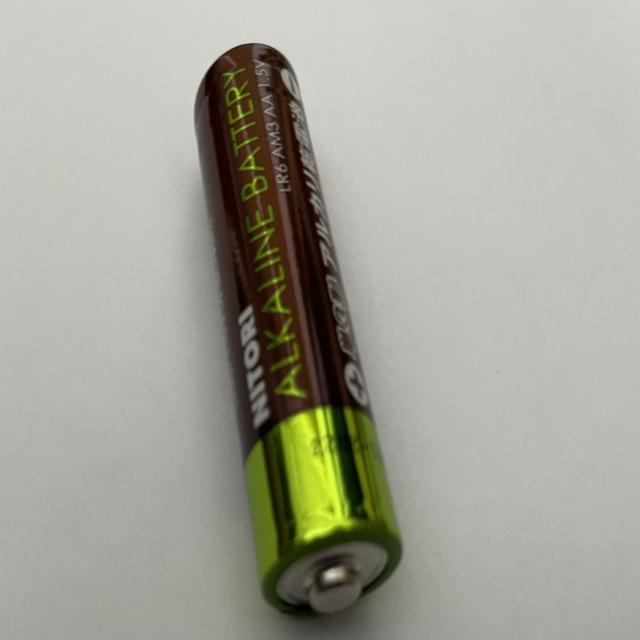hazardous waste: (192, 41, 402, 618)
